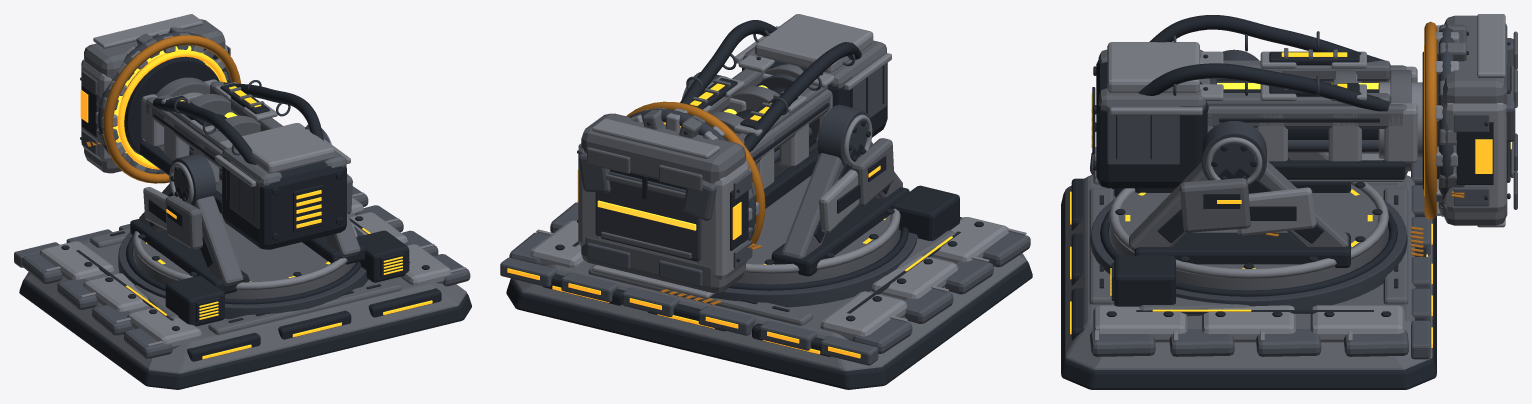
File: comune.glb
3 views of the same model, side by side, from view 1: azimuth 30°, elevation 25°; view 2: azimuth 150°, elevation 25°; view 3: azimuth 270°, elevation 25° (orthographic). The views are drawn at different scales.
Parts seen in each view (by area): view 1: BaseFixed_Surface, ArmPitch_Surface, TurretYaw_Surface, PistonRecoil_Surface; view 2: BaseFixed_Surface, PistonRecoil_Surface, ArmPitch_Surface, TurretYaw_Surface; view 3: BaseFixed_Surface, ArmPitch_Surface, TurretYaw_Surface, PistonRecoil_Surface.
Boxes of the visible parts, x1,y1,x2,y2 form: BaseFixed_Surface: (14,186,471,389); ArmPitch_Surface: (140,77,350,249); TurretYaw_Surface: (130,127,365,299); PistonRecoil_Surface: (80,14,241,183); BaseFixed_Surface: (500,185,1032,389); PistonRecoil_Surface: (577,101,765,298); ArmPitch_Surface: (680,14,891,208); TurretYaw_Surface: (682,72,909,284); BaseFixed_Surface: (1061,147,1436,389); ArmPitch_Surface: (1091,15,1417,188); TurretYaw_Surface: (1109,49,1388,290); PistonRecoil_Surface: (1378,14,1517,227).
Bounding box in the file's own units: 3.79 × 2.33 × 3.69.
